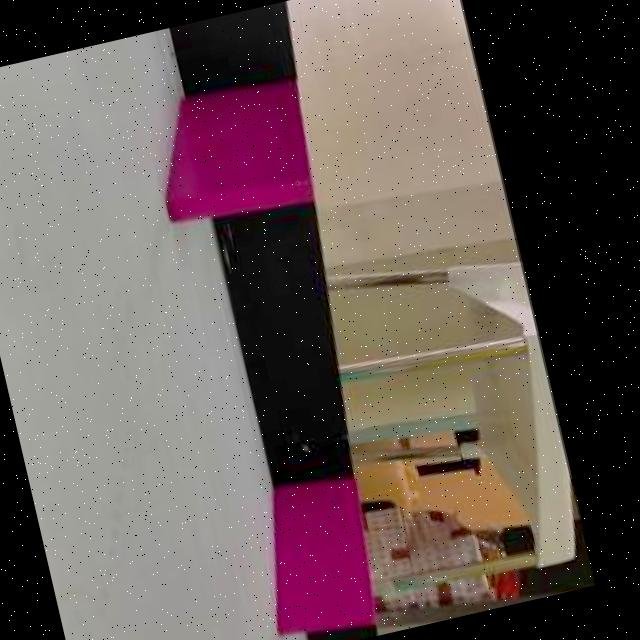xparking: (145, 84, 311, 228), (256, 478, 377, 640)
